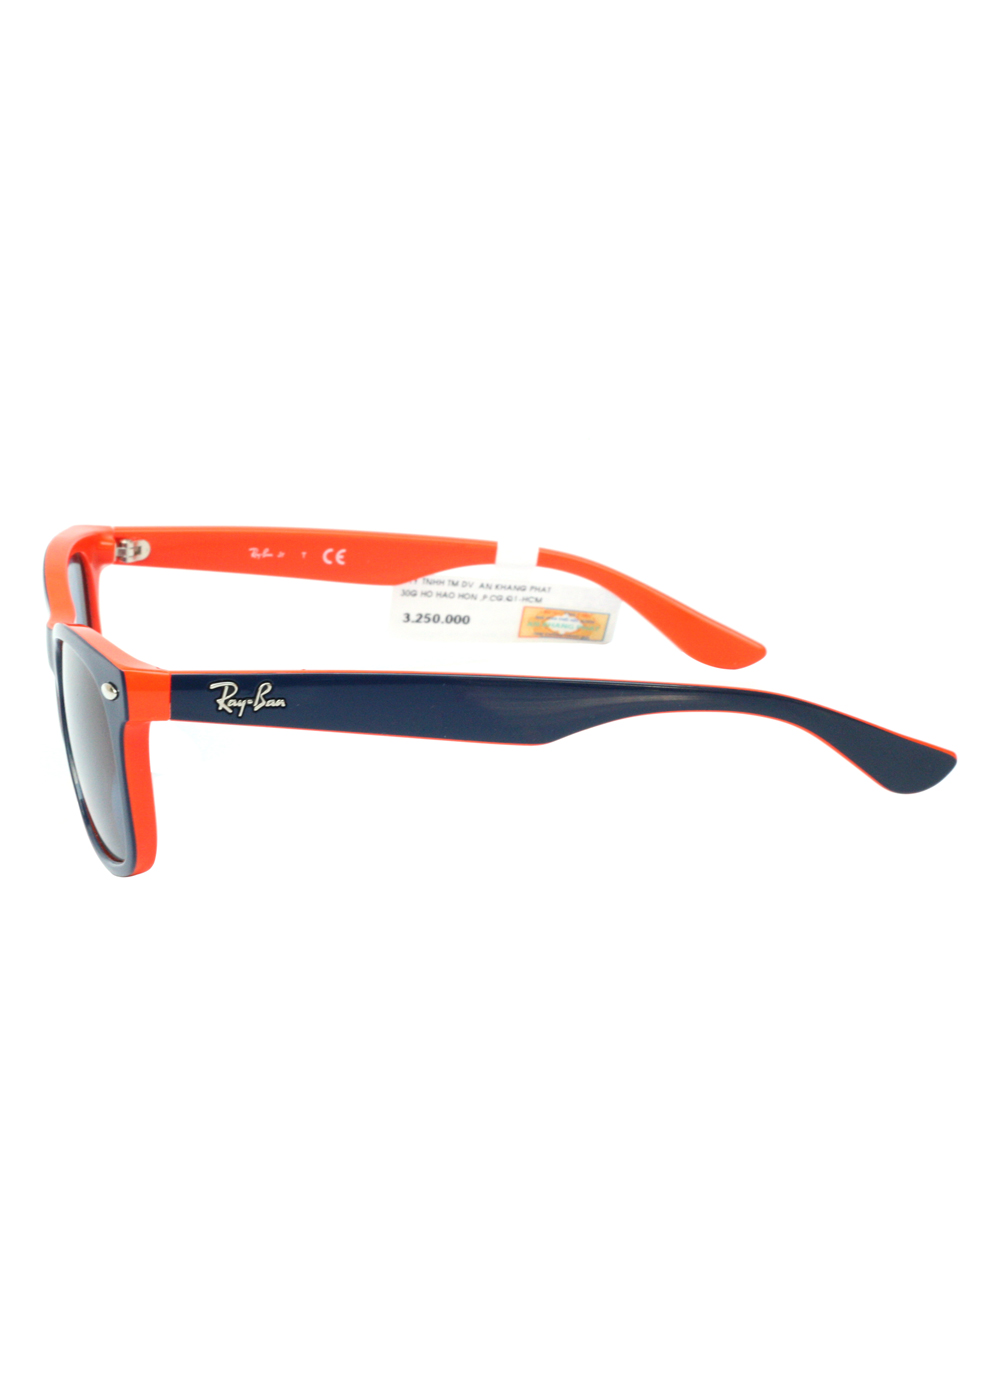Rayban: (203, 679, 294, 719), (239, 537, 277, 565)
